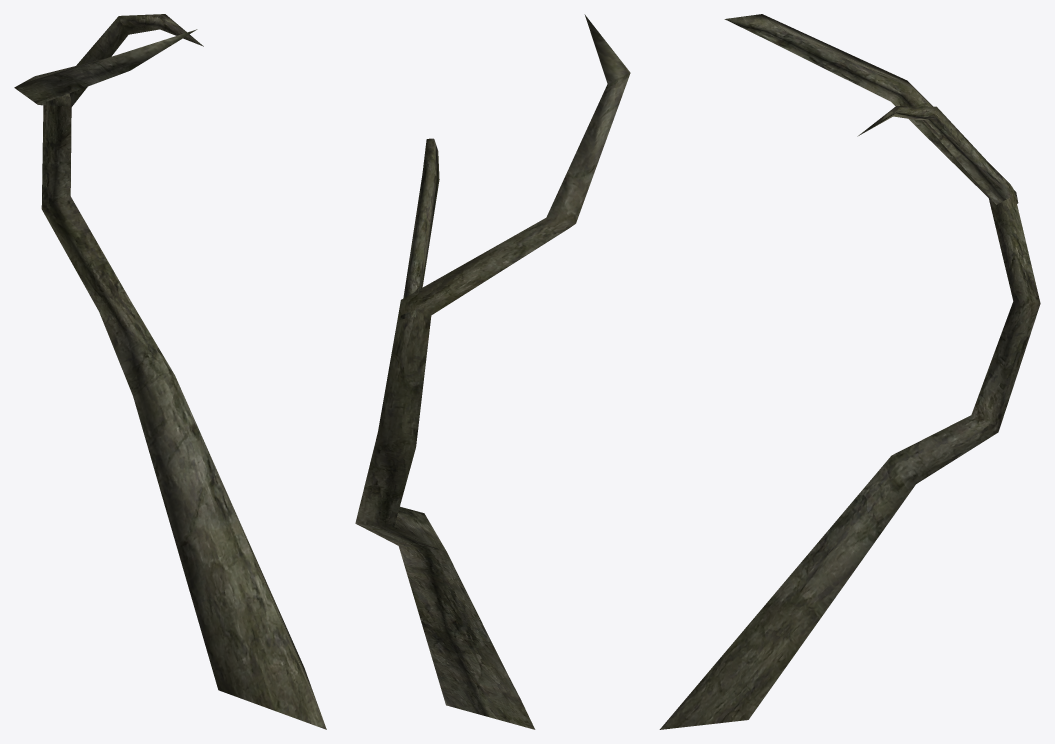
Rendered from TI_Old_Tree_Branch_02.fbx.
3 renders of one model, left to right at view 1: azimuth 30°, elevation 25°; view 2: azimuth 150°, elevation 25°; view 3: azimuth 270°, elevation 25°, orthographic. The views are drawn at different scales.
Parts seen in each view (by area): view 1: TI_Old_Tree_Branch_02; view 2: TI_Old_Tree_Branch_02; view 3: TI_Old_Tree_Branch_02.
Boxes of the visible parts, x1,y1,x2,y2 form: TI_Old_Tree_Branch_02: (14,14,326,729); TI_Old_Tree_Branch_02: (355,14,630,729); TI_Old_Tree_Branch_02: (659,14,1040,729).
Bounding box in the file's own units: 1.11 × 3.59 × 1.86.
